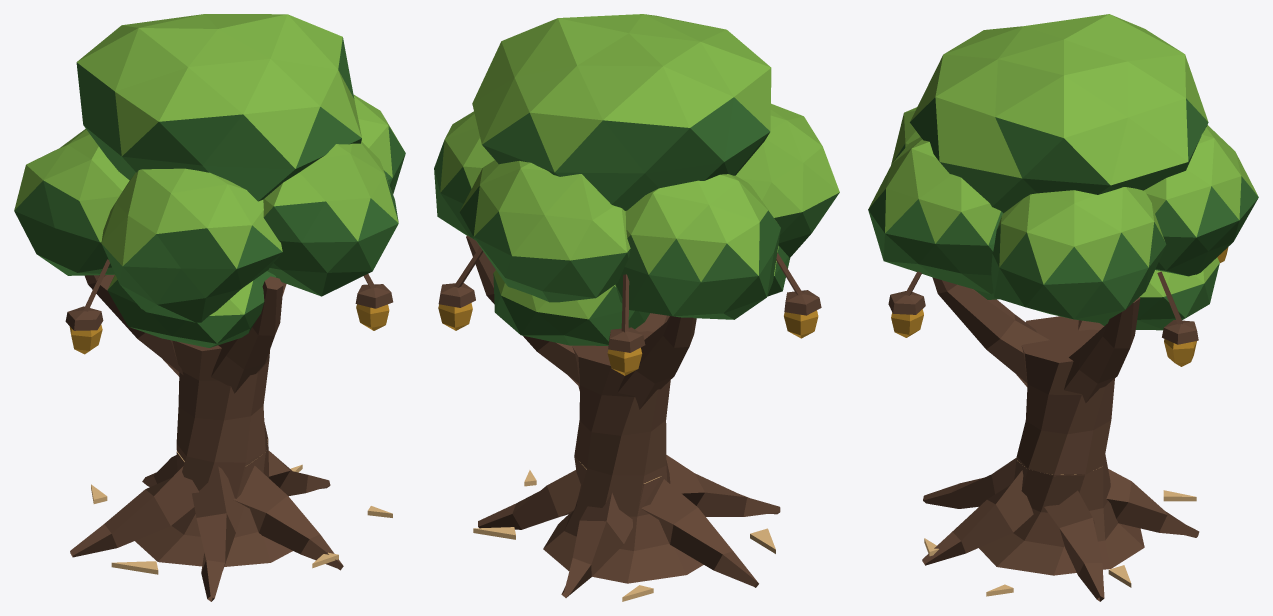
Rendered from Resource_OakTree.fbx.
3 renders of one model, left to right at view 1: azimuth 30°, elevation 25°; view 2: azimuth 150°, elevation 25°; view 3: azimuth 270°, elevation 25°, orthographic. The views are drawn at different scales.
Parts seen in each view (by area): view 1: Crown, Trunk, Roots, Acorns, Chips, Stump; view 2: Crown, Trunk, Roots, Acorns, Chips; view 3: Crown, Trunk, Roots, Acorns, Stump, Chips.
Part boxes in pixels (box(x1,y1,x2,y2)): Crown: box(14, 14, 405, 347); Trunk: box(85, 274, 292, 566); Roots: box(70, 451, 343, 601); Acorns: box(65, 259, 393, 354); Chips: box(91, 464, 392, 574); Stump: box(176, 438, 269, 498); Crown: box(434, 14, 839, 345); Trunk: box(466, 235, 703, 583); Roots: box(478, 455, 780, 597); Acorns: box(438, 247, 821, 375); Chips: box(473, 470, 775, 601); Crown: box(868, 14, 1258, 330); Trunk: box(932, 277, 1144, 575); Roots: box(922, 457, 1199, 601); Acorns: box(888, 247, 1228, 366); Stump: box(1014, 460, 1102, 512); Chips: box(924, 490, 1196, 596).
Size of the model in its own units: 3.99 by 3.95 by 5.58.
